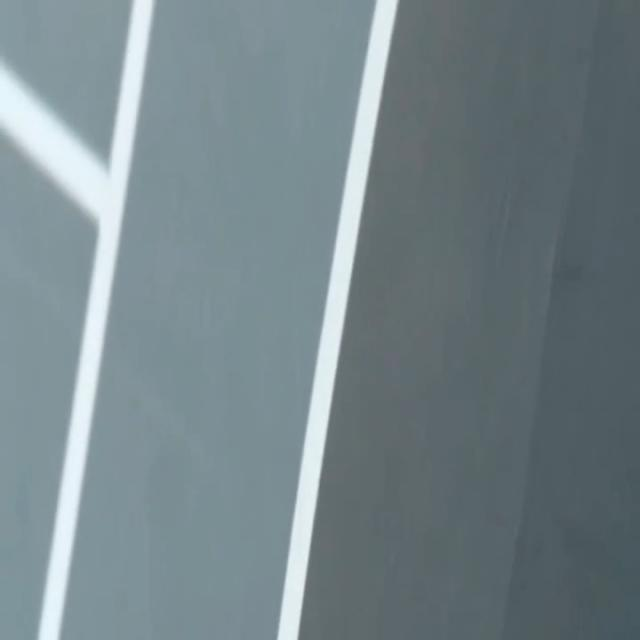left: (278, 0, 398, 639)
